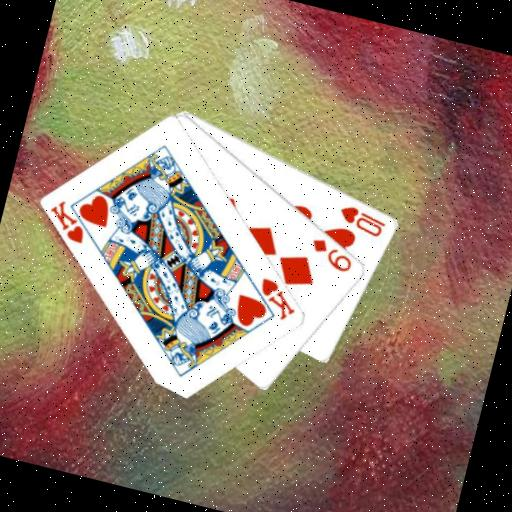10H: (334, 200, 390, 240)
9D: (305, 234, 359, 276)
KH: (41, 194, 94, 247), (250, 273, 304, 325)
